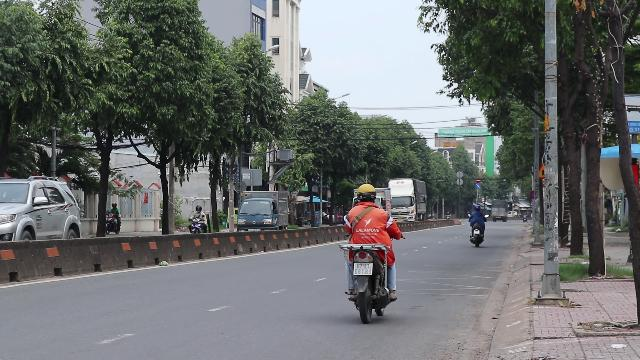helmet: (355, 183, 377, 203)
licenseplate: (353, 262, 372, 274)
motorcyclist: (336, 183, 402, 321)
